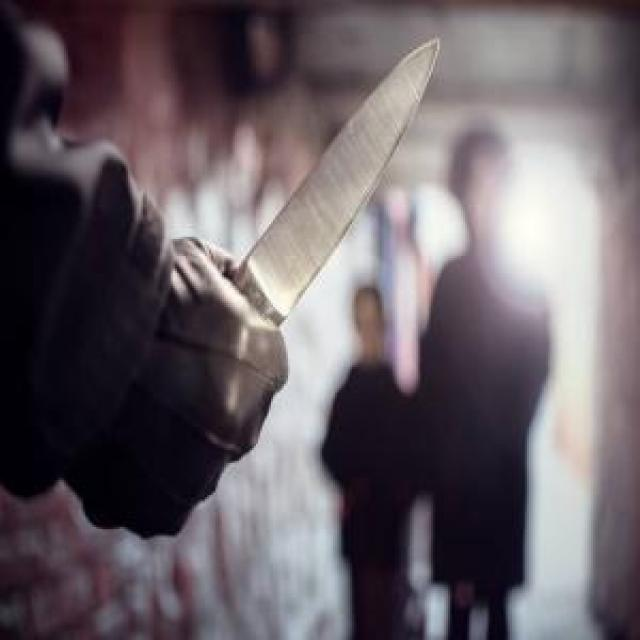knife: (200, 38, 445, 356)
